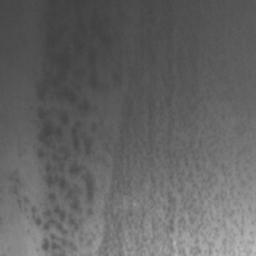Pitted surface: (9, 108, 254, 256), (38, 73, 89, 112), (148, 104, 154, 125), (90, 75, 96, 88)
